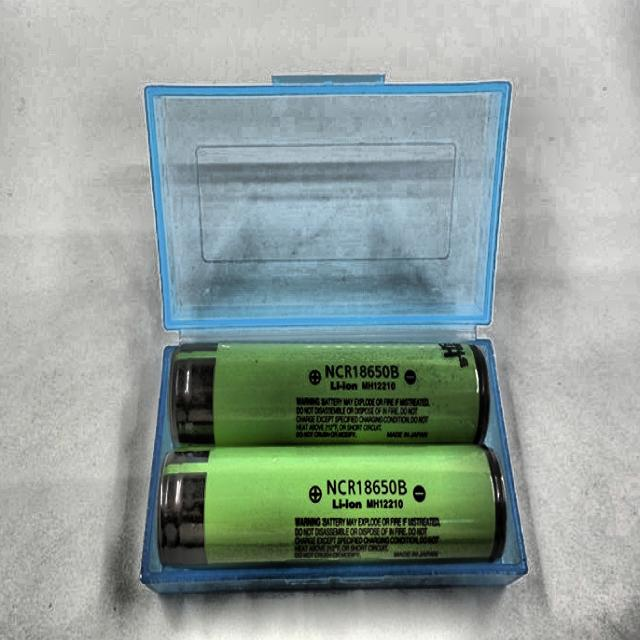Non-Valuable Waste - Batteries: (157, 444, 507, 564), (171, 342, 489, 445)
